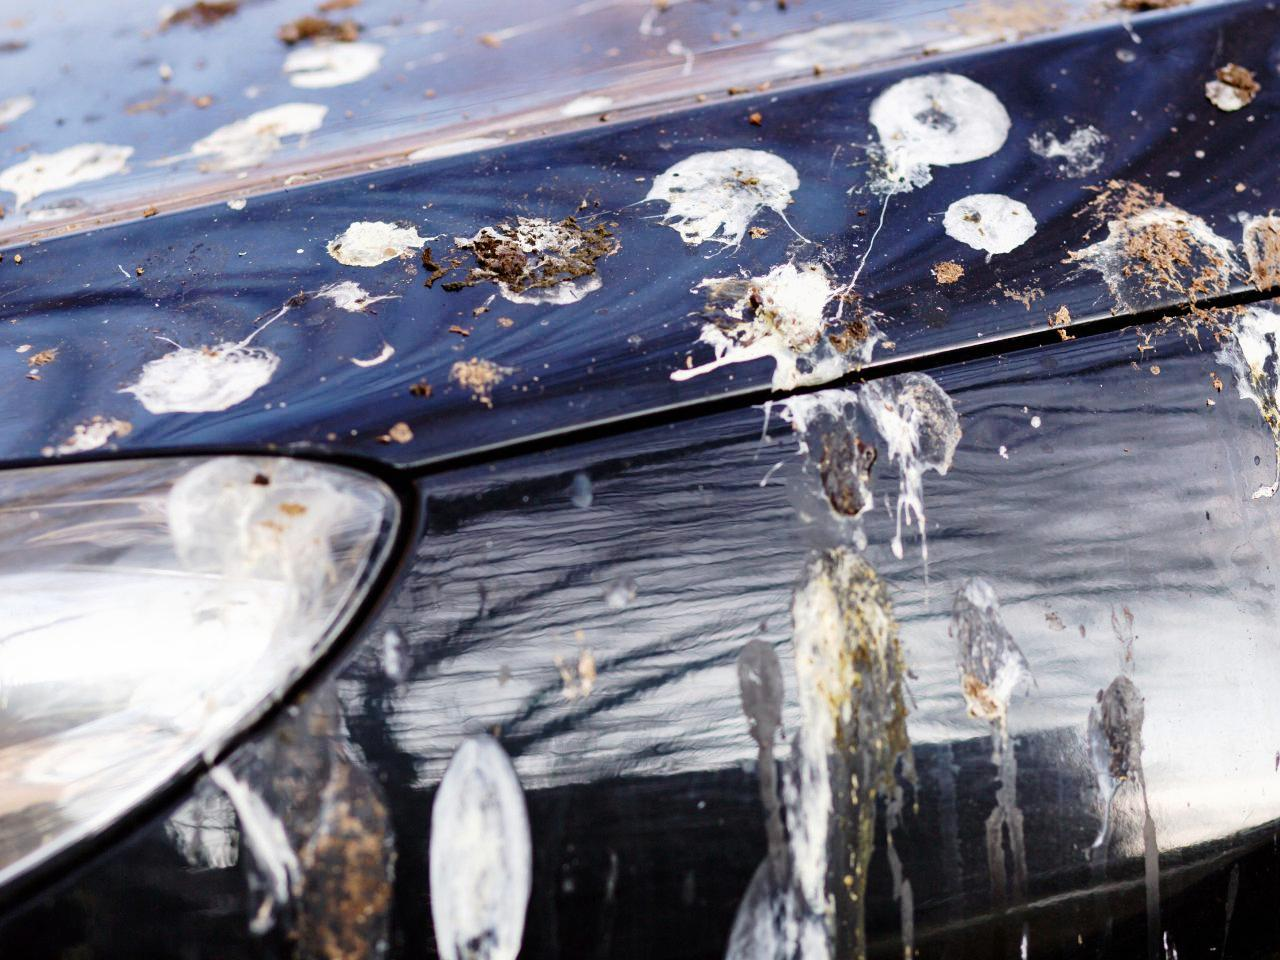Bird Poop: (725, 545, 914, 959), (163, 688, 397, 959), (833, 72, 1011, 317), (764, 374, 961, 558), (949, 577, 1033, 906), (672, 263, 887, 391), (1070, 181, 1279, 308), (430, 734, 531, 959), (1087, 659, 1160, 959), (120, 305, 289, 414), (643, 149, 810, 246), (924, 0, 1202, 53), (457, 217, 617, 301), (1188, 301, 1279, 448), (158, 103, 327, 170), (0, 143, 133, 211), (769, 23, 918, 73), (942, 195, 1036, 255), (328, 221, 437, 267), (284, 43, 383, 88), (1031, 126, 1105, 177), (43, 415, 132, 455), (452, 357, 512, 407), (1205, 63, 1260, 112), (160, 0, 246, 31), (278, 15, 360, 46), (409, 137, 502, 162), (321, 281, 395, 311), (554, 648, 596, 700), (124, 87, 181, 114), (562, 95, 613, 118), (0, 96, 33, 129), (1003, 286, 1044, 310), (1049, 305, 1072, 340), (933, 260, 964, 284)
